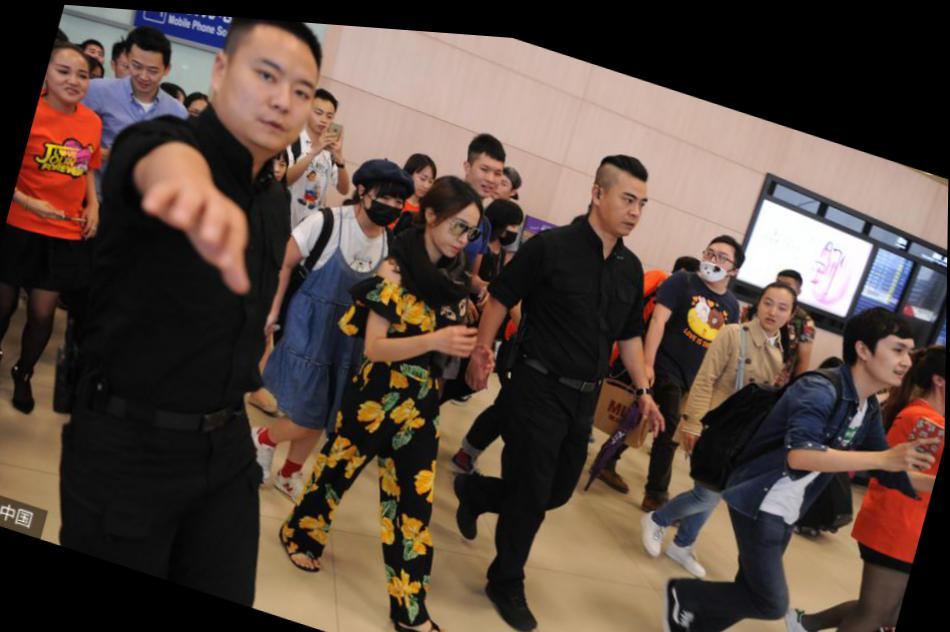NONE: (220, 38, 321, 154), (598, 168, 652, 232), (425, 197, 480, 258), (871, 317, 922, 379), (45, 56, 91, 105), (125, 50, 165, 96), (756, 280, 795, 323), (472, 152, 507, 194), (308, 98, 338, 134), (410, 160, 438, 195), (491, 166, 518, 197), (267, 152, 292, 184)
OK: (362, 173, 411, 223), (496, 208, 523, 242)
WRONG: (696, 228, 739, 275)
